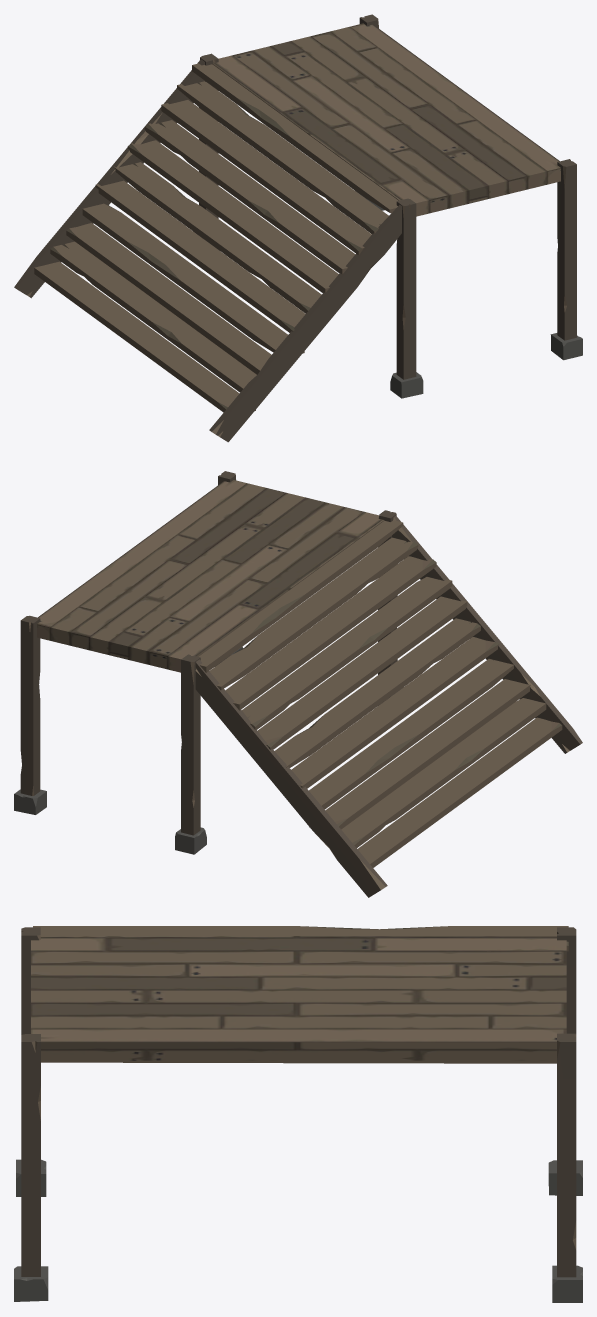
File: kingdom_SM_Bld_Stairs_Wood_Wide_02.gltf
3 renders of one model, top to bottom at view 1: azimuth 30°, elevation 25°; view 2: azimuth 150°, elevation 25°; view 3: azimuth 270°, elevation 25°, orthographic. The views are drawn at different scales.
Parts seen in each view (by area): view 1: SM_Bld_Stairs_Wood_Wide_02; view 2: SM_Bld_Stairs_Wood_Wide_02; view 3: SM_Bld_Stairs_Wood_Wide_02.
Part boxes in pixels (<box>): SM_Bld_Stairs_Wood_Wide_02: <box>14,14,582,442</box>; SM_Bld_Stairs_Wood_Wide_02: <box>14,471,582,897</box>; SM_Bld_Stairs_Wood_Wide_02: <box>14,926,582,1302</box>.
Size of the model in its own units: 5.36 by 2.72 by 5.31.
1 material, 1 textured.
